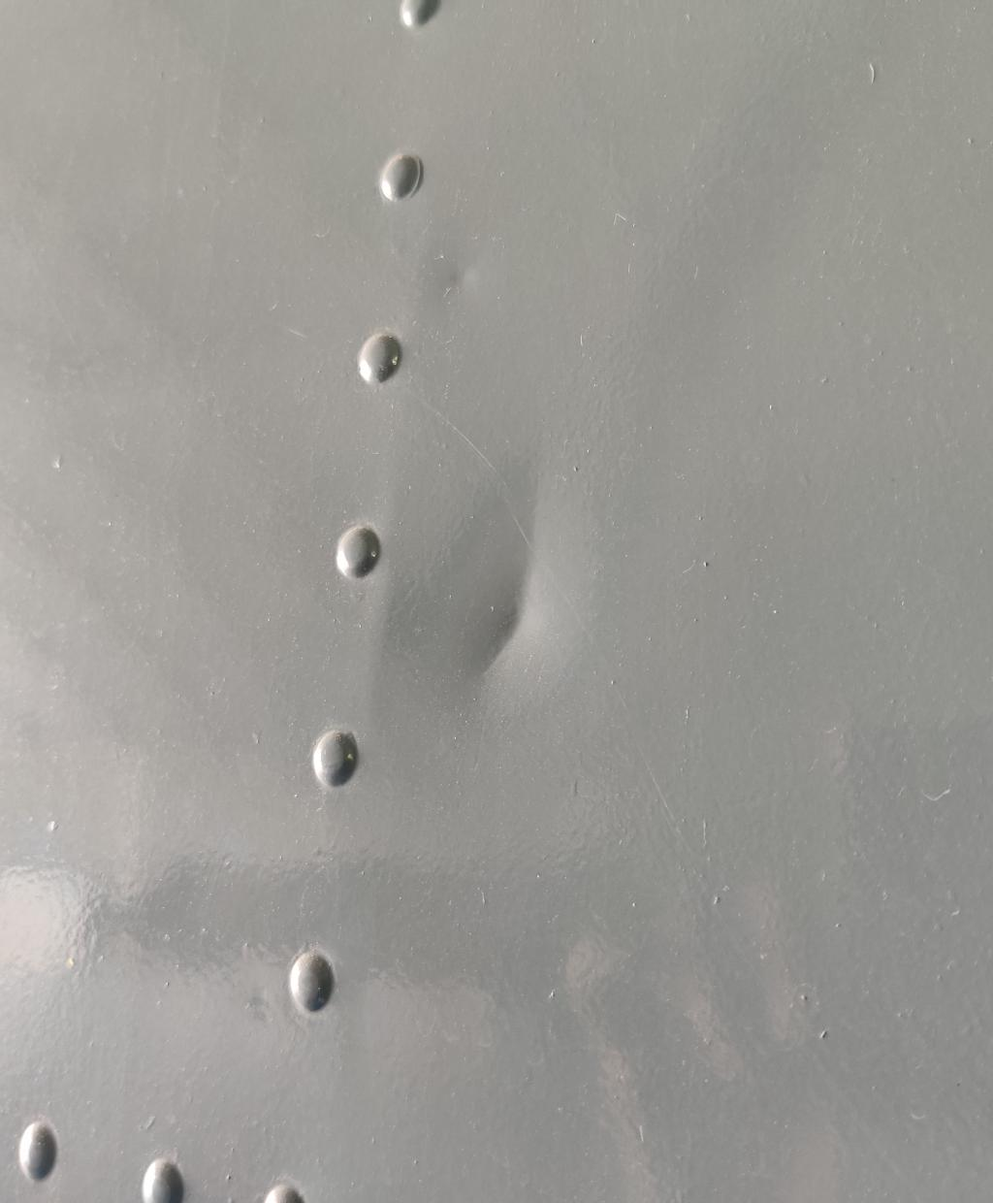dent: (430, 469, 596, 738)
